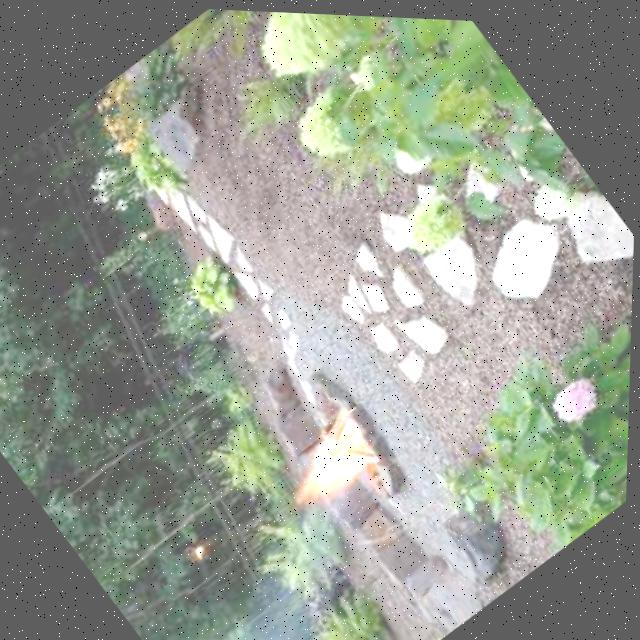Fire: (280, 407, 388, 513)
